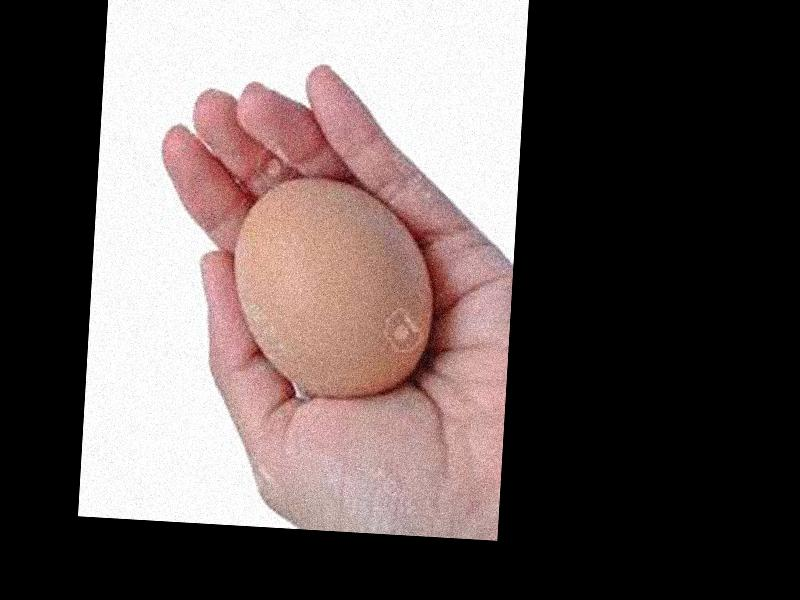Eggs: (227, 173, 437, 404)
